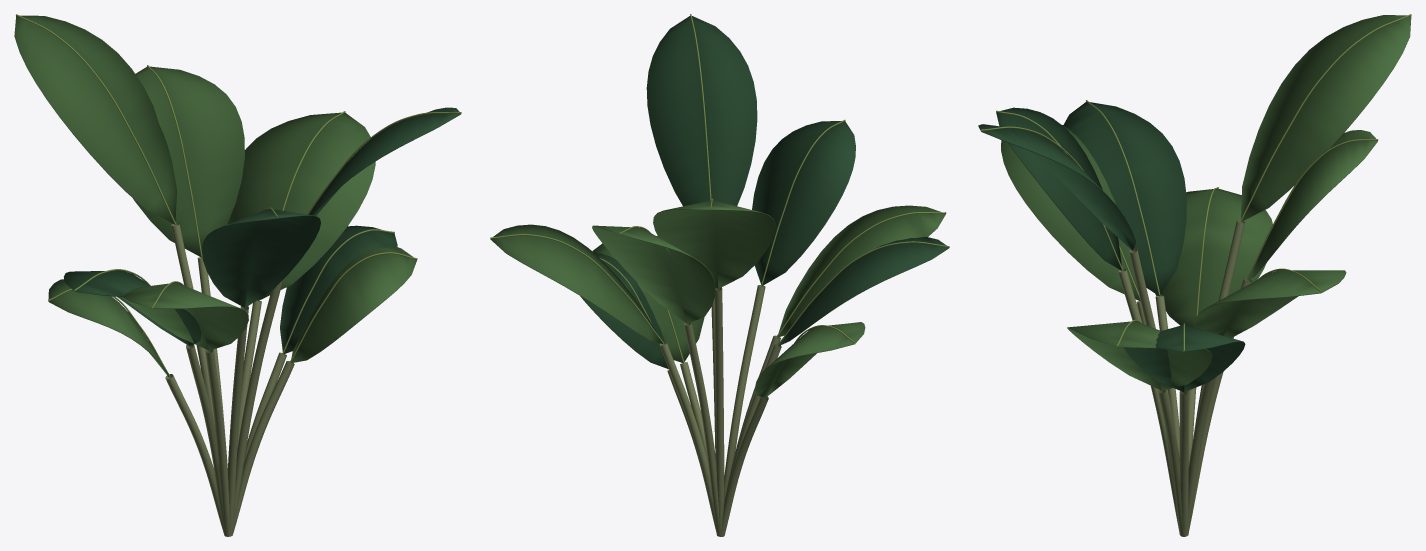
The model's file is broadleaf.glb.
3 views of the same model, side by side, from view 1: azimuth 30°, elevation 25°; view 2: azimuth 150°, elevation 25°; view 3: azimuth 270°, elevation 25° (orthographic). The views are drawn at different scales.
Parts seen in each view (by area): view 1: Atelier_Broadleaf; view 2: Atelier_Broadleaf; view 3: Atelier_Broadleaf.
Part boxes in pixels (bbox=[...]): Atelier_Broadleaf: bbox=[14, 14, 461, 536]; Atelier_Broadleaf: bbox=[490, 14, 949, 536]; Atelier_Broadleaf: bbox=[978, 14, 1411, 536].
Size of the model in its own units: 1.64 by 1.87 by 1.56.
